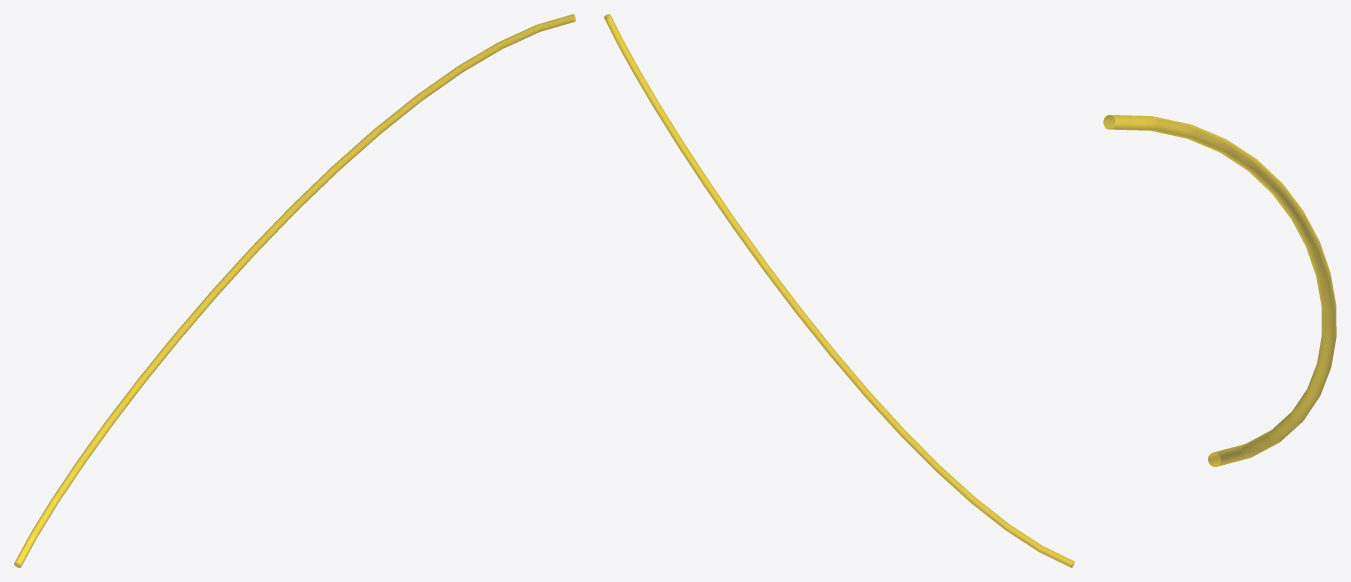
Rendered from Event_84804159_track_103.fbx.
The picture shows the model from 3 angles, left to right: view 1: azimuth 30°, elevation 25°; view 2: azimuth 150°, elevation 25°; view 3: azimuth 270°, elevation 25°; orthographic projection. The views are drawn at different scales.
Visible parts, largest first — view 1: Model; view 2: Model; view 3: Model.
Part boxes in pixels (x1,y1,x2,y2): Model: (14, 14, 575, 567); Model: (604, 14, 1074, 567); Model: (1103, 115, 1336, 466).
Size of the model in its own units: 3.09 by 2.47 by 0.6287.
